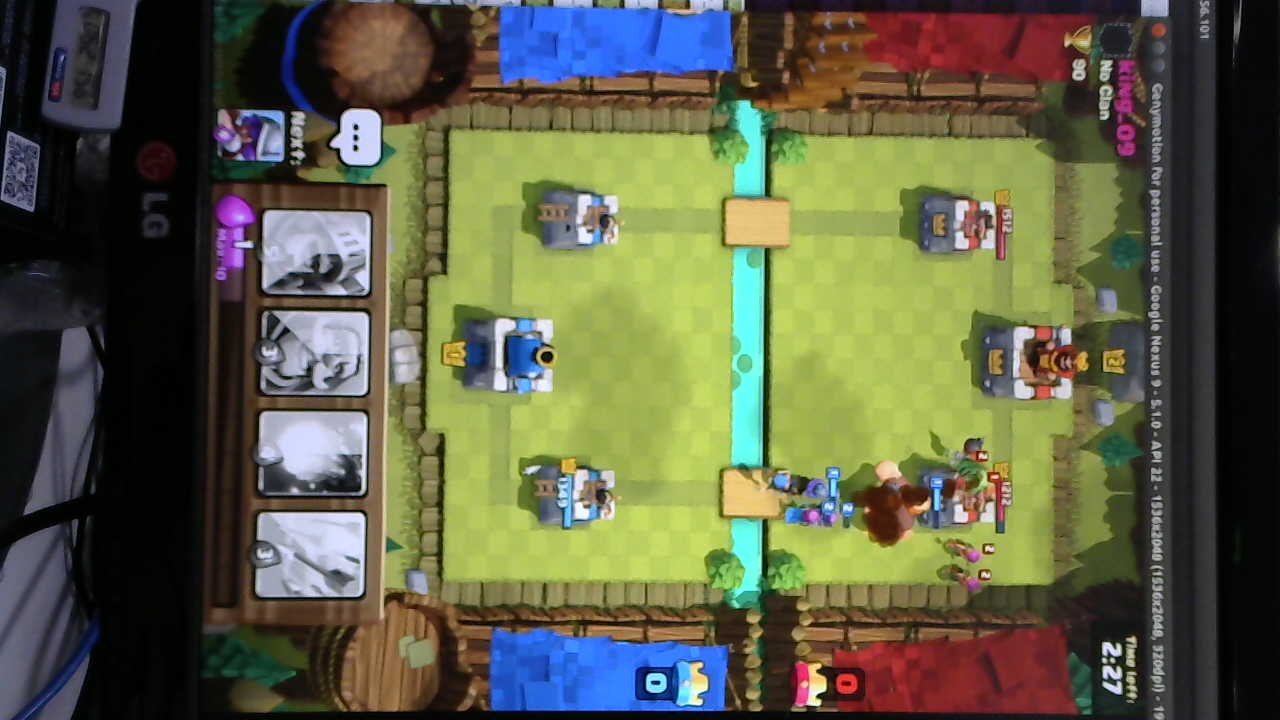archers: (944, 533, 986, 594), (776, 500, 854, 528)
arena: (544, 185, 624, 254), (532, 463, 619, 526)
bomb: (953, 431, 994, 468), (763, 456, 799, 497)
dragon: (944, 460, 1008, 499)
earena: (921, 195, 1000, 260), (937, 469, 999, 525)
eking: (980, 321, 1090, 402)
giant: (867, 459, 930, 550)
king: (460, 315, 561, 397)
musketeer: (799, 470, 843, 505)
